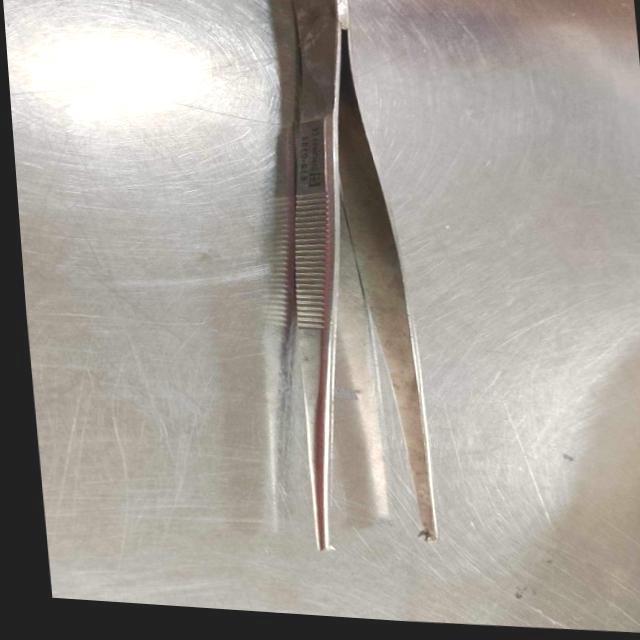General: (1, 0, 640, 627)
Sharps: (272, 0, 351, 551)
